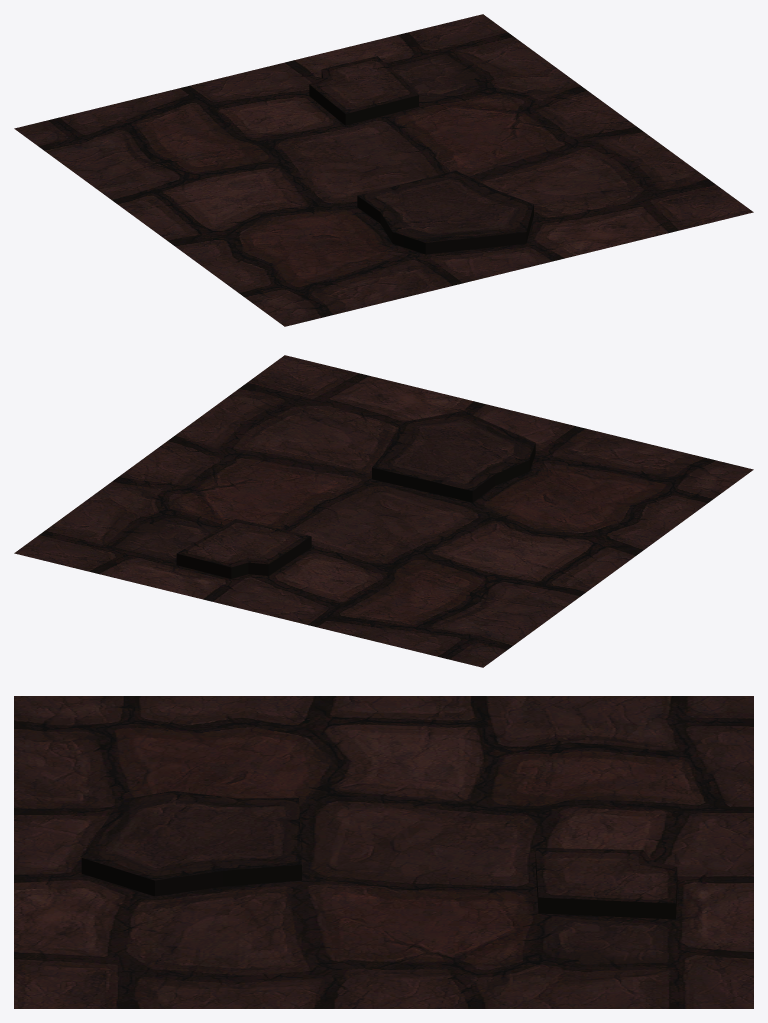
File: lava_floor_blank_07.fbx
3 renders of one model, top to bottom at view 1: azimuth 30°, elevation 25°; view 2: azimuth 150°, elevation 25°; view 3: azimuth 270°, elevation 25°, orthographic. The views are drawn at different scales.
Parts seen in each view (by area): view 1: obj0.020; view 2: obj0.020; view 3: obj0.020.
Boxes of the visible parts, <box> form: obj0.020: <box>14,14,753,326</box>; obj0.020: <box>14,355,753,667</box>; obj0.020: <box>14,696,753,1008</box>.
Bounding box in the file's own units: 4 × 0.095 × 4.
